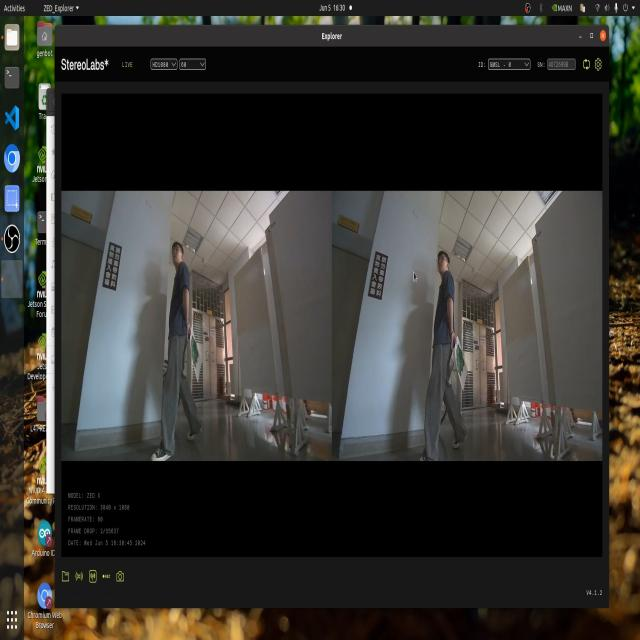green: (454, 347, 465, 392), (196, 342, 200, 373)
